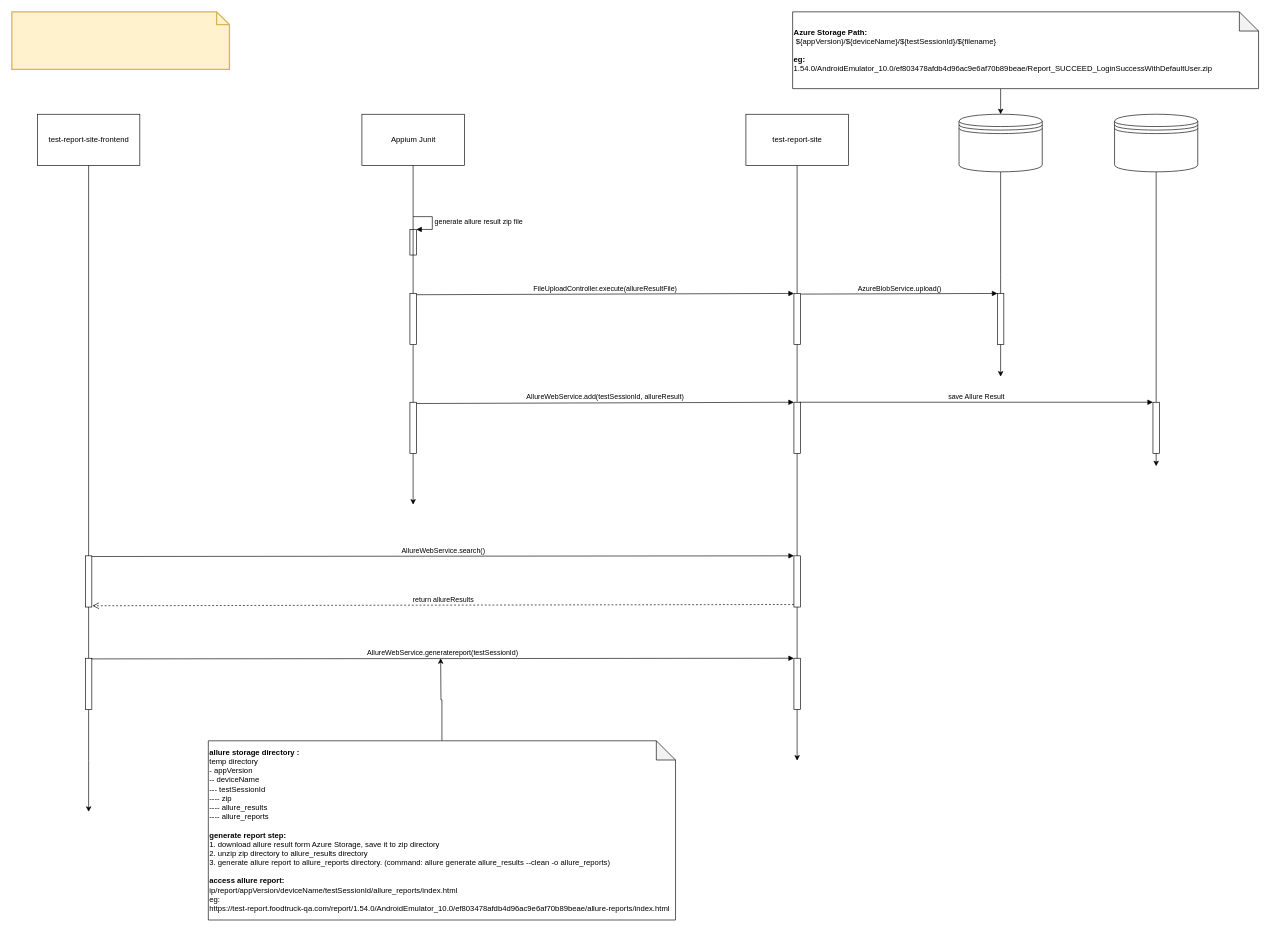
Image size: 1270x931. Some labels were removed from this diagram. Here are the shapes that lost their labels. From the top down, the box of each, then its label:
(11, 11, 230, 70): Allure Report
(958, 114, 1042, 172): Azure Storage
(1114, 114, 1198, 172): Mongo DB
